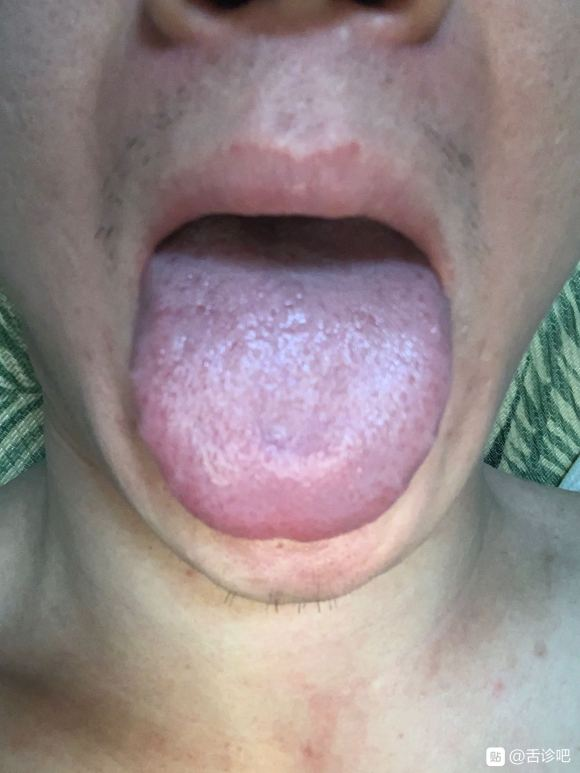baitaishe: (130, 217, 452, 542)
zishe: (130, 217, 452, 542)
